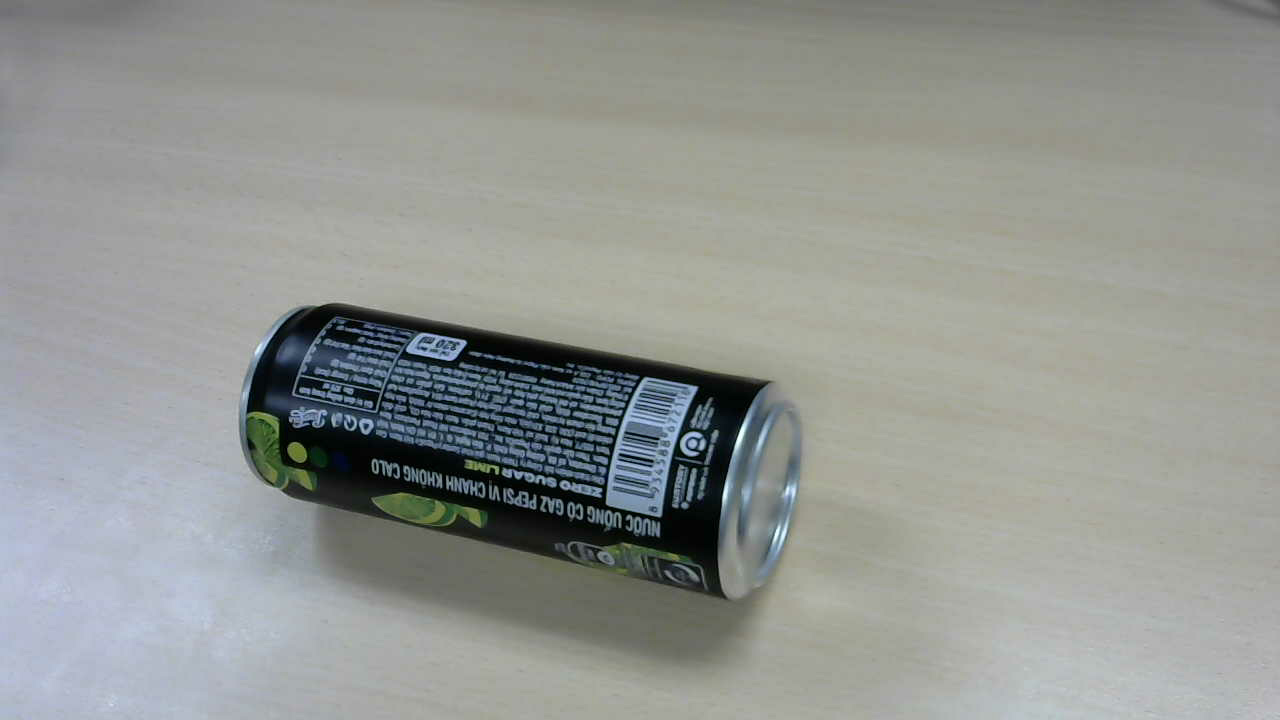Pepsi: (245, 309, 809, 605)
